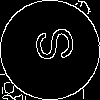S: (25, 25, 76, 66)
